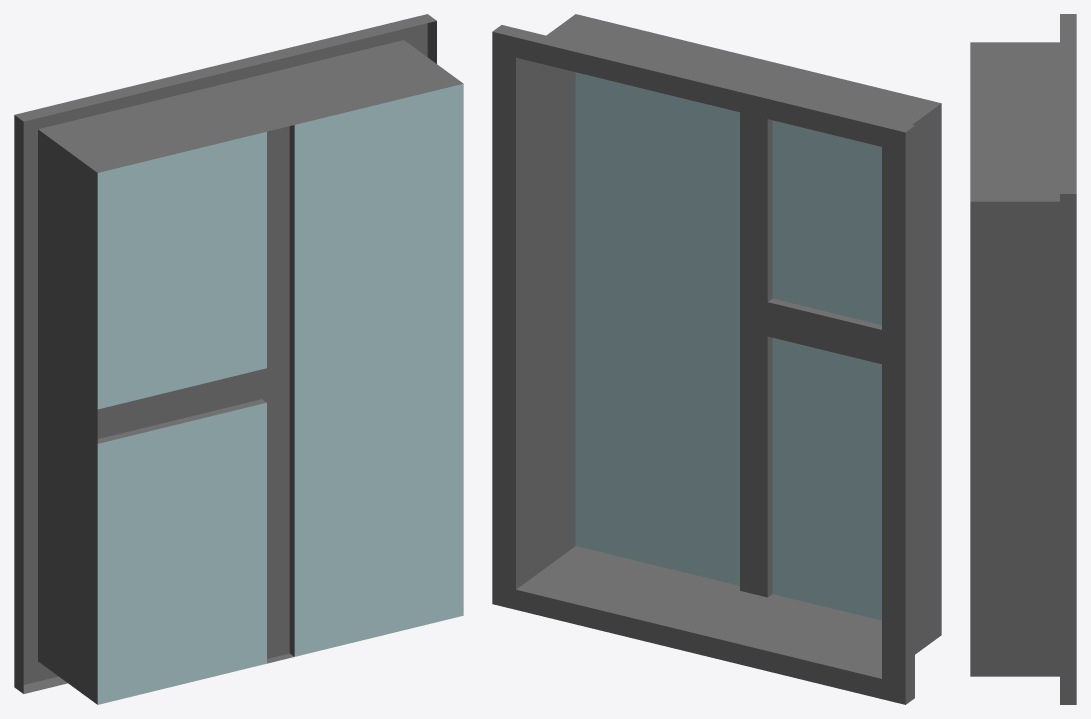
The model's file is New_window_2.fbx.
The picture shows the model from 3 angles, left to right: view 1: azimuth 30°, elevation 25°; view 2: azimuth 150°, elevation 25°; view 3: azimuth 270°, elevation 25°; orthographic projection. The views are drawn at different scales.
Visible parts, largest first — view 1: New_window_2; view 2: New_window_2; view 3: New_window_2.
Boxes of the visible parts, box(x1,y1,x2,y2) form: New_window_2: box(14, 14, 463, 704); New_window_2: box(492, 14, 941, 704); New_window_2: box(970, 14, 1076, 704).
Size of the model in its own units: 2.39 by 0.5974 by 3.16.
